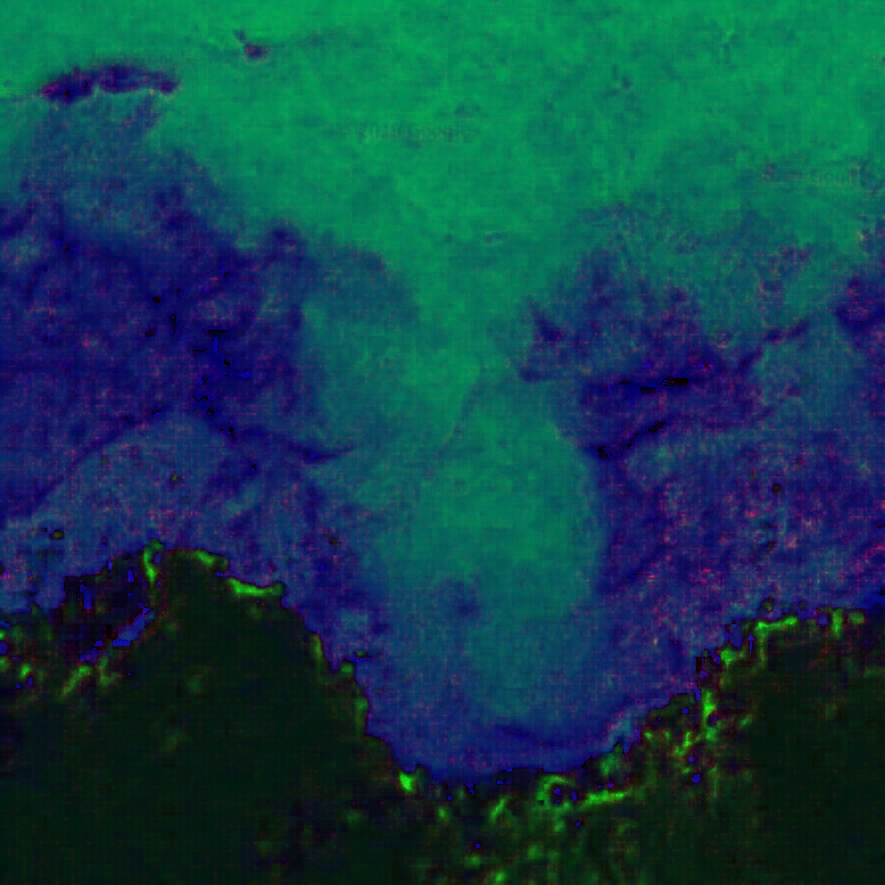rip_current: (293, 210, 645, 710)
